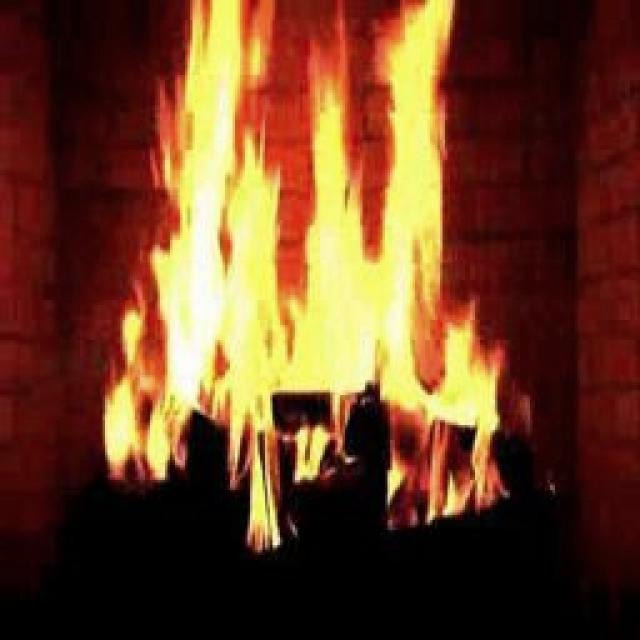Fire: (115, 55, 452, 475)
